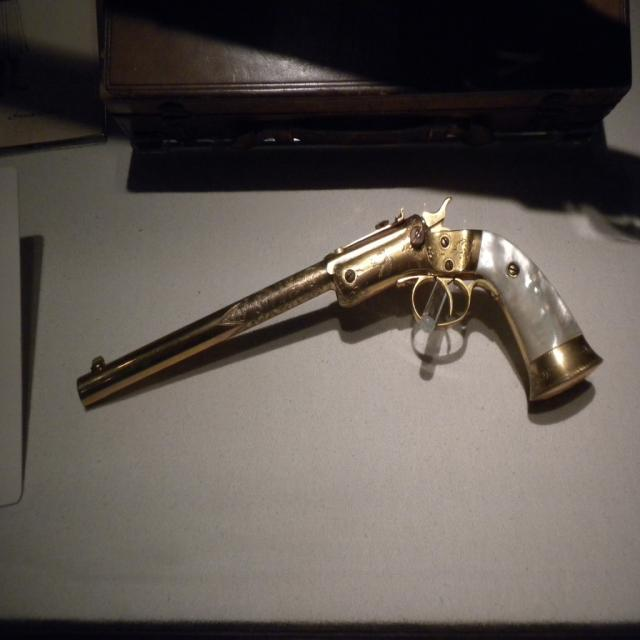Gun: (74, 199, 599, 409)
